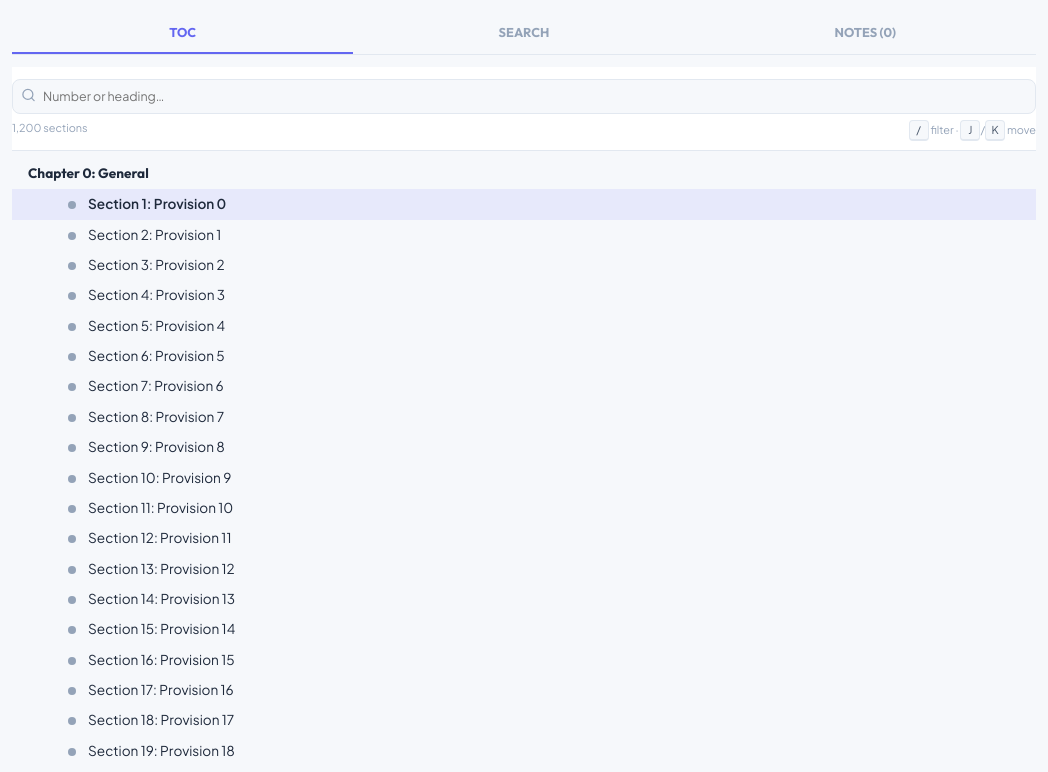
Test case: large TOC filtering › shows the visible count and only matching section nodes
Type "needle" into the search field named "Filter sections" at (524, 96), box [12,79,1036,114]
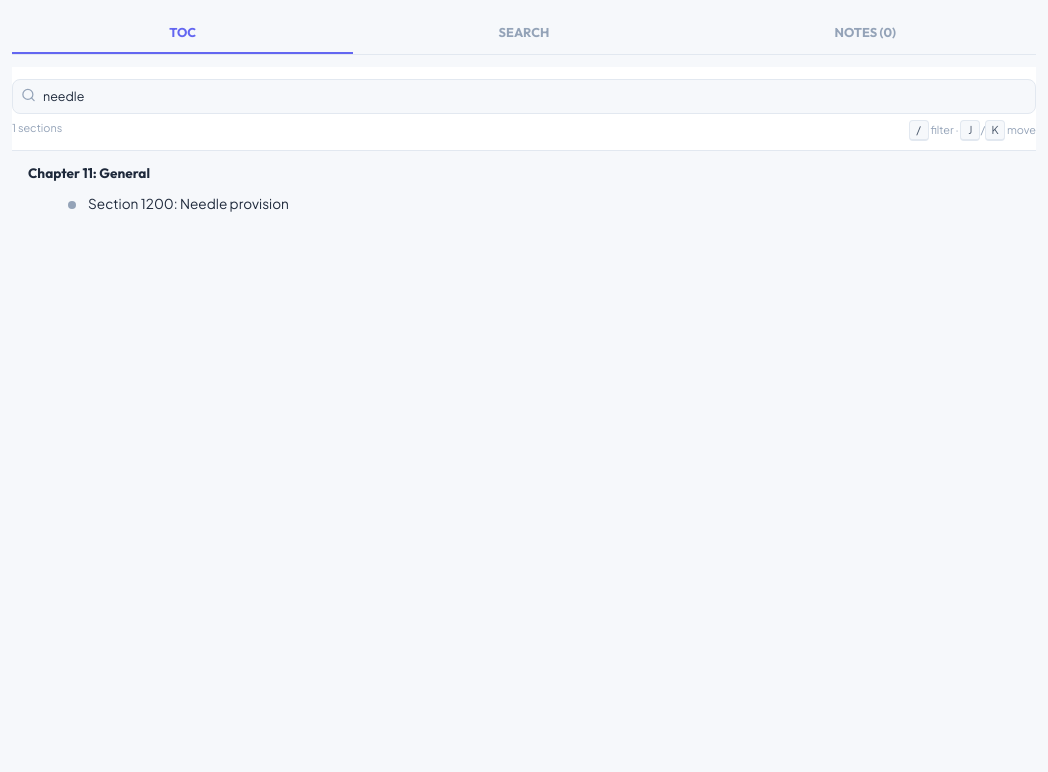
Expected: the text "Section 1200: Needle provision" is shown, [88,195,289,212]
Expected: the text "1 sections" is shown, [12,120,62,141]
